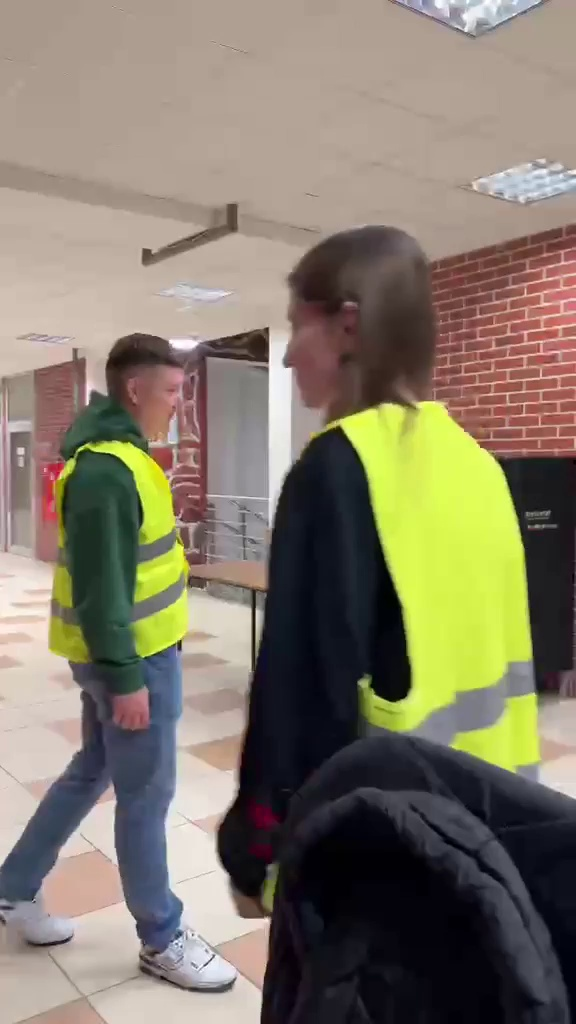vest: (241, 229, 556, 850), (20, 329, 234, 996)
